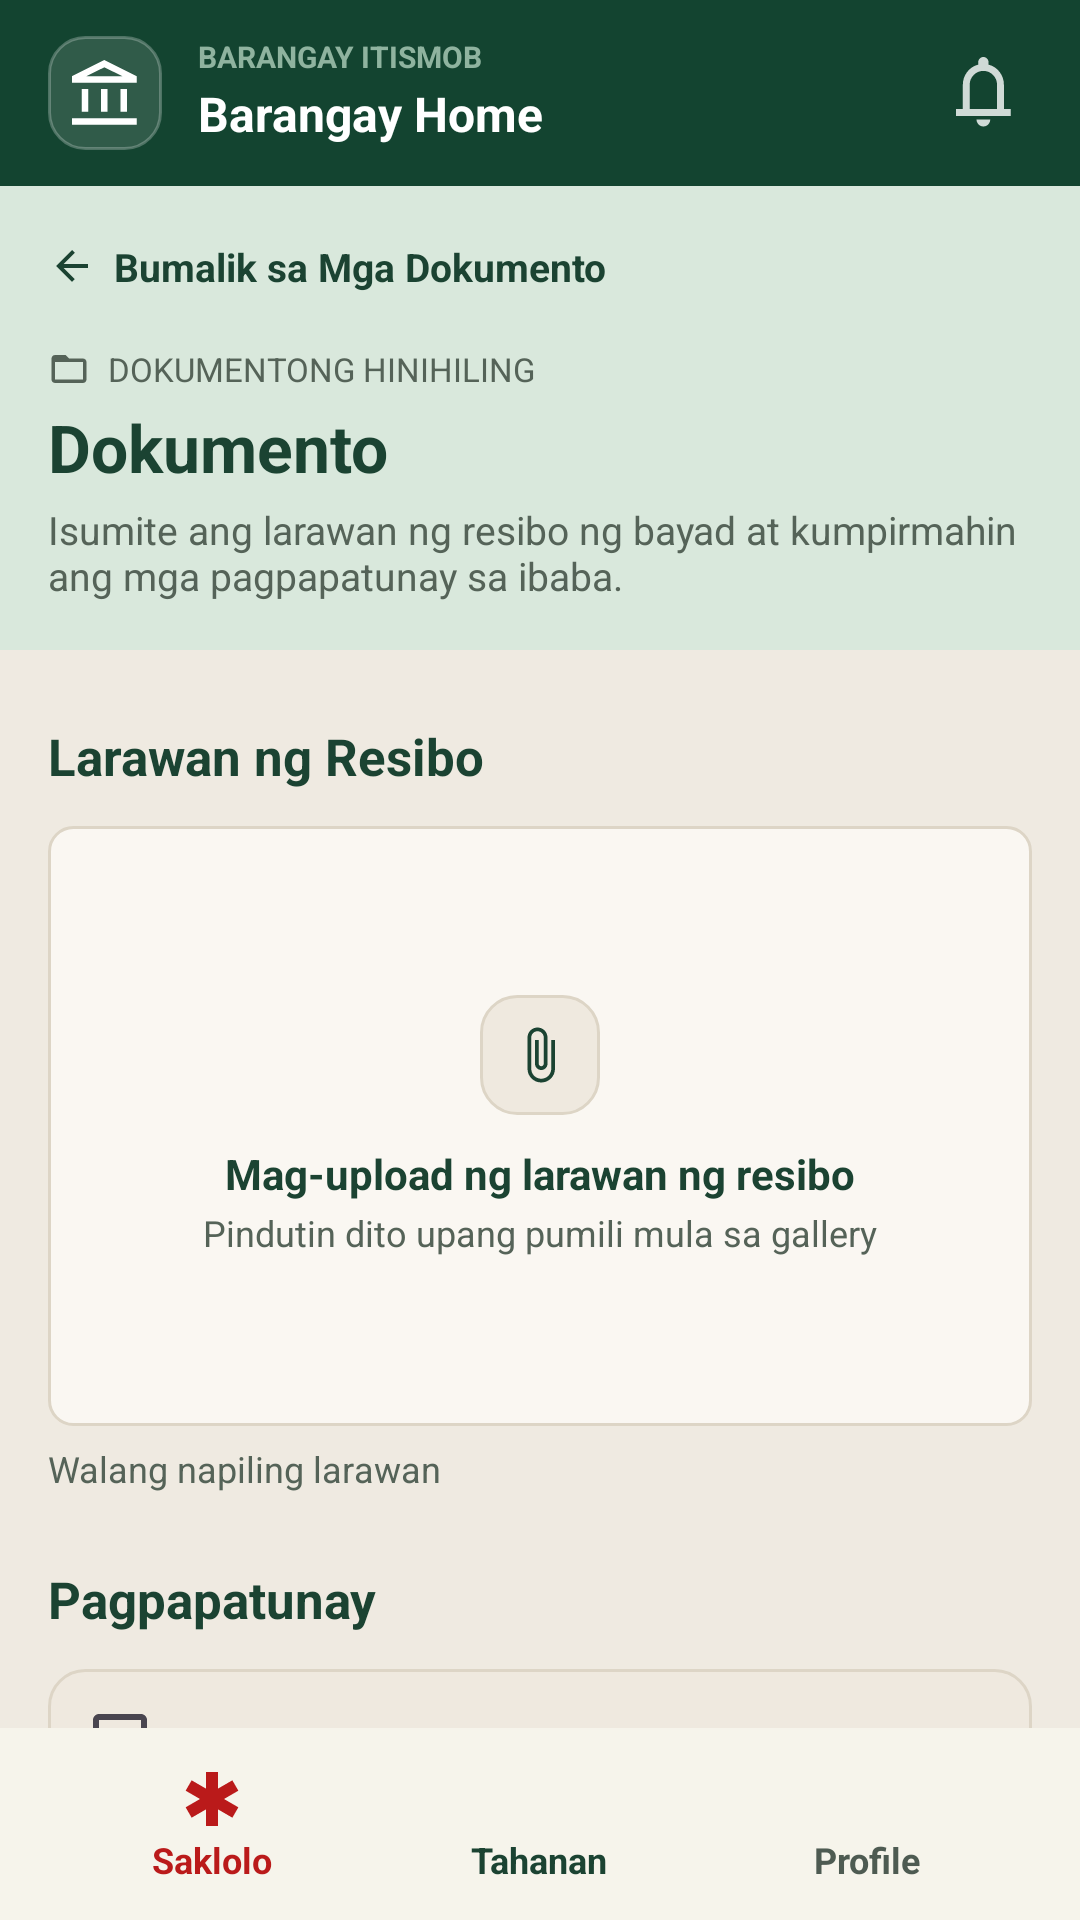

Icons on this 1080 × 1920 Android screen, each with its box as (x1, y1, x2, y2):
asterisk: (185, 1772, 239, 1826)
doc attach: (480, 995, 600, 1115)
doc folder: (51, 355, 87, 383)
Notifications: (956, 57, 1011, 127)
